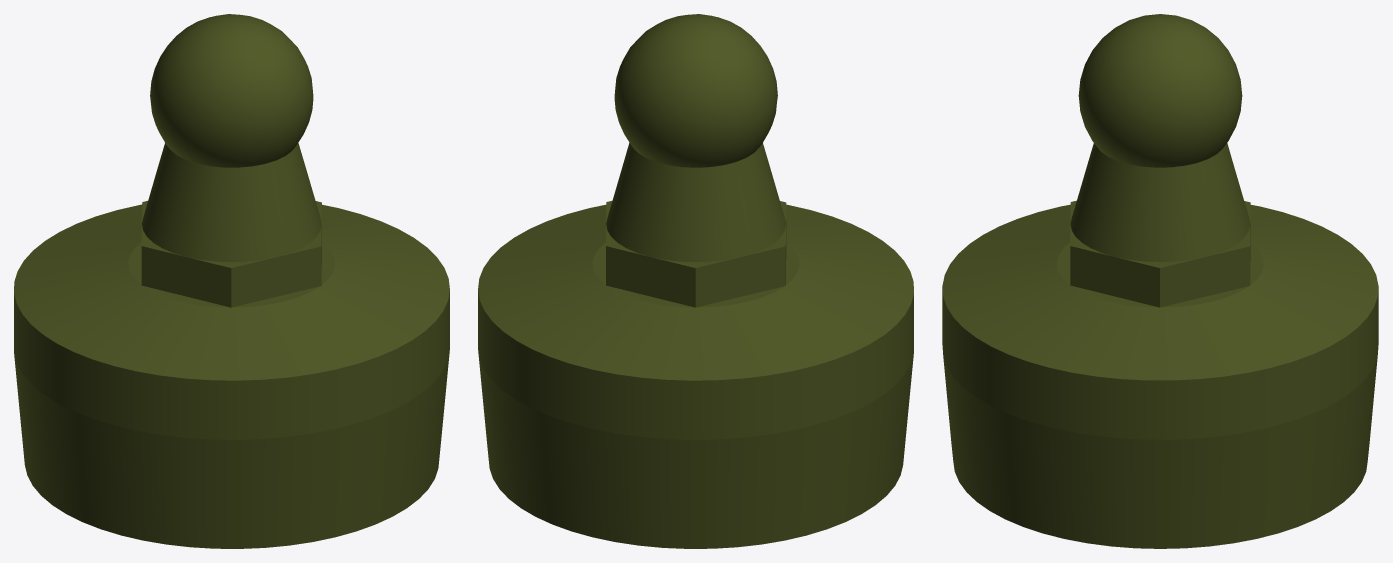
File: CumDuoiSung.glb
The picture shows the model from 3 angles, left to right: view 1: azimuth 30°, elevation 25°; view 2: azimuth 150°, elevation 25°; view 3: azimuth 270°, elevation 25°; orthographic projection.
Visible parts, largest first — view 1: DuoiSung; view 2: DuoiSung; view 3: DuoiSung.
Part boxes in pixels (bbox=[...]): DuoiSung: bbox=[14, 14, 449, 548]; DuoiSung: bbox=[478, 14, 913, 548]; DuoiSung: bbox=[942, 14, 1378, 548].
Bounding box in the file's own units: 7.99 × 8.9 × 8.
